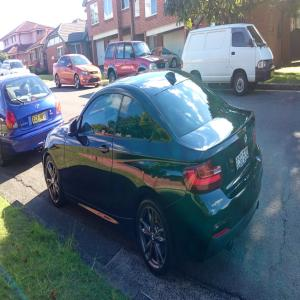Vehicle-registration-plate: (236, 145, 250, 171), (32, 114, 47, 125)
